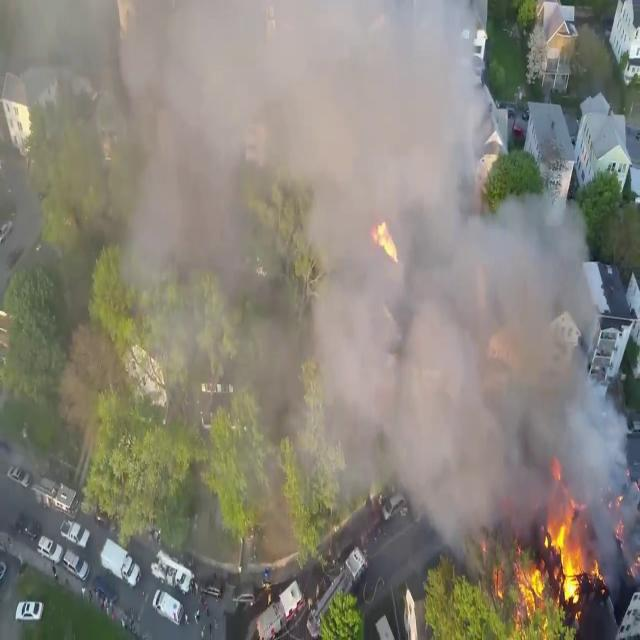Fire: (514, 506, 602, 616)
Smoke: (34, 0, 632, 572)
